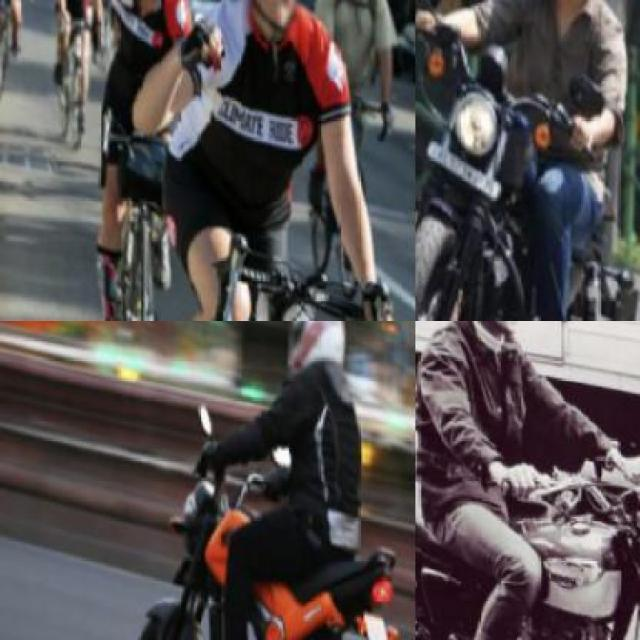With Helmet: (274, 320, 355, 391), (205, 0, 329, 42)
